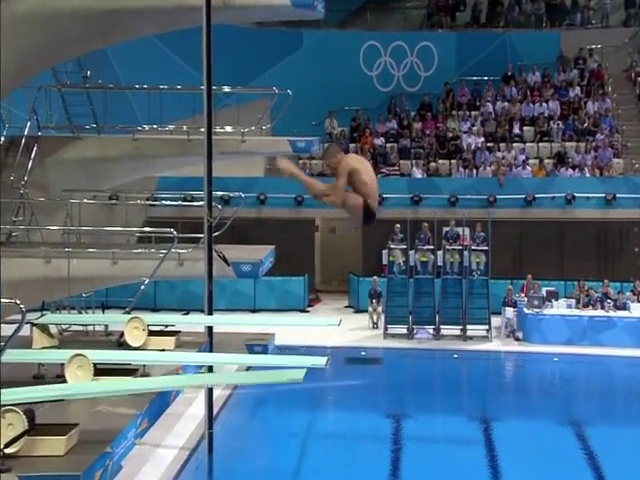diver: (275, 142, 379, 226)
